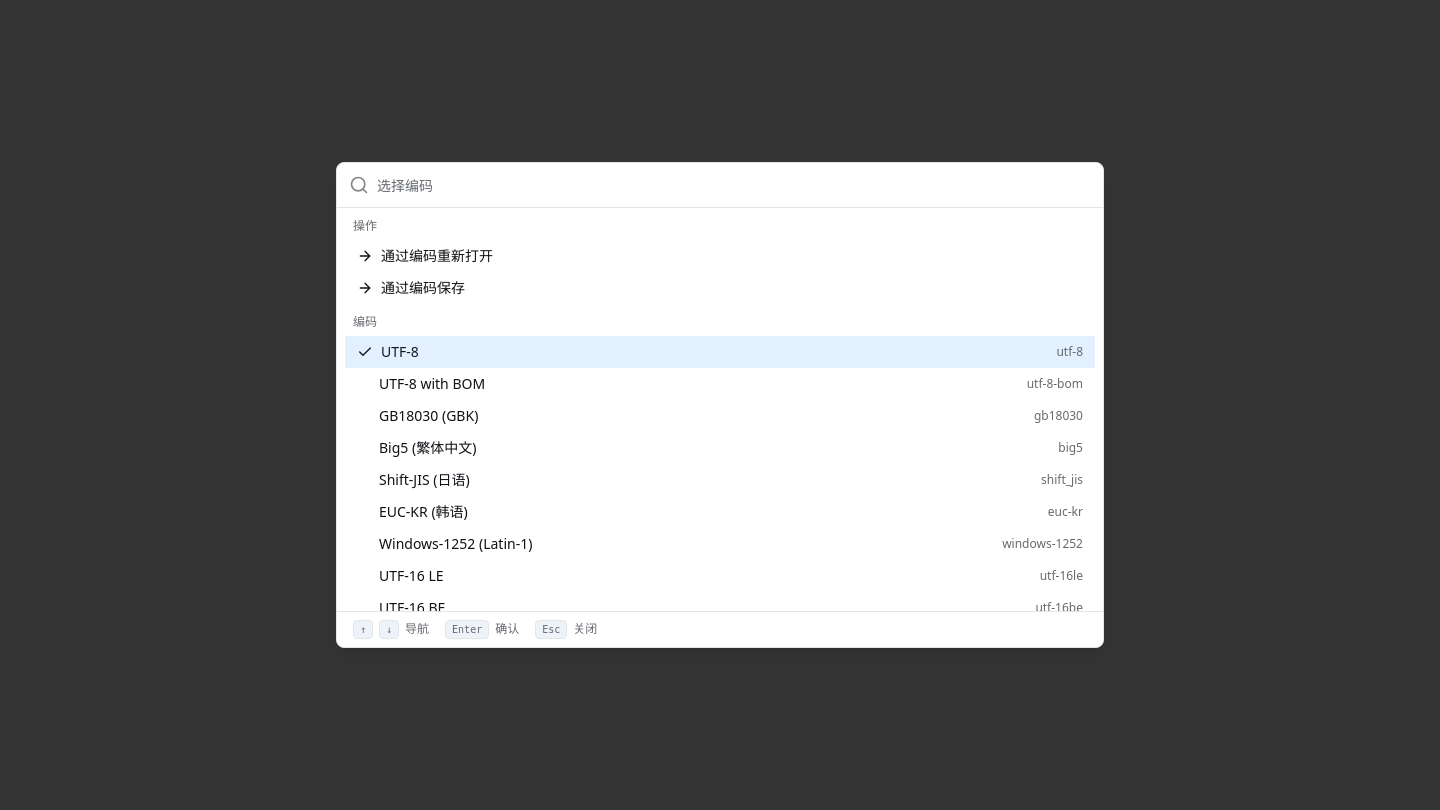
Scenario: EncodingQuickPick › 搜索词过滤编码列表(按 id)
Type "gb" into the dropdown with test id "enc-search" at (734, 185), box [377,163,1091,207]
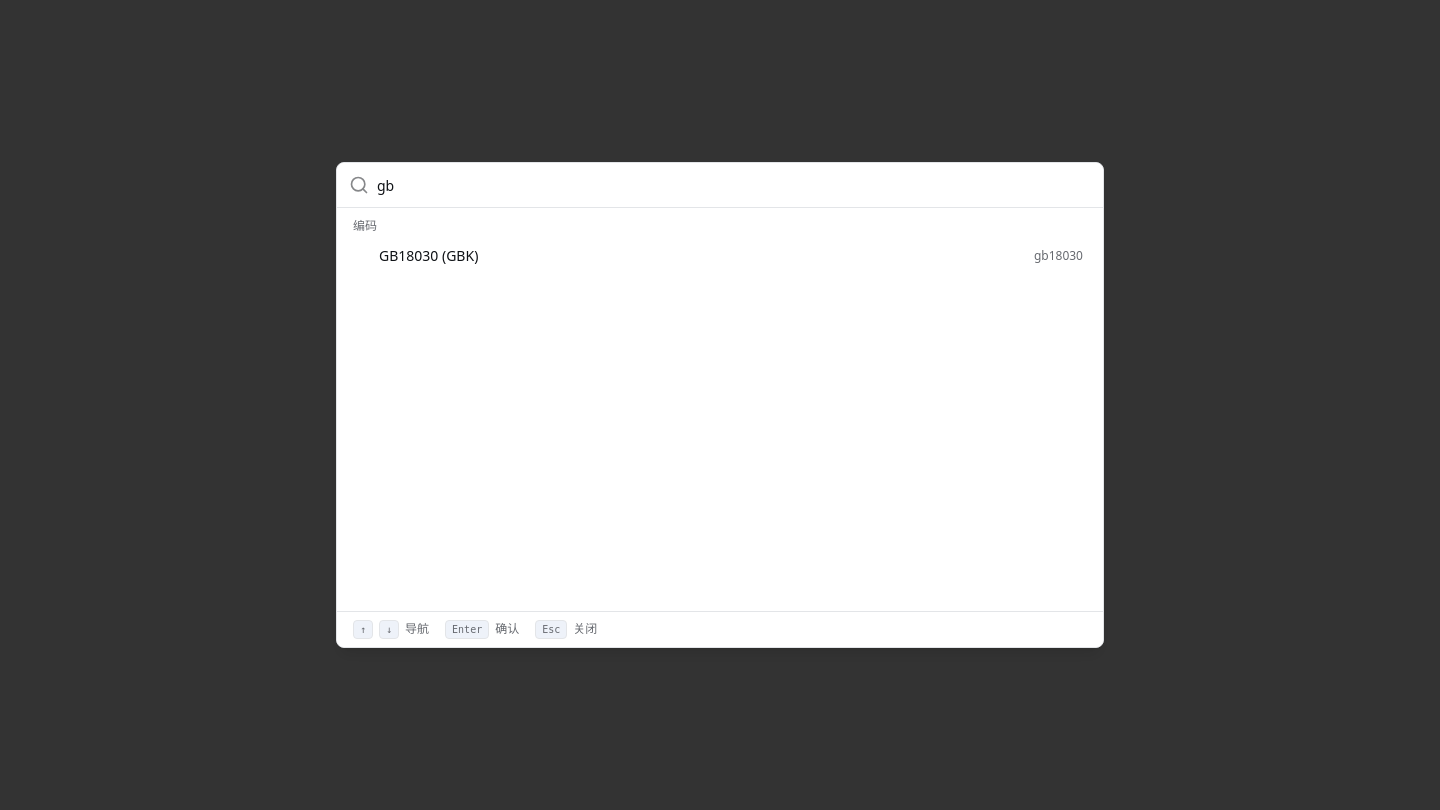
Expected: the option with test id "enc-encoding-gb18030" is shown, [379,246,1083,265]
Expected: the option with test id "enc-encoding-utf-8" is gone
